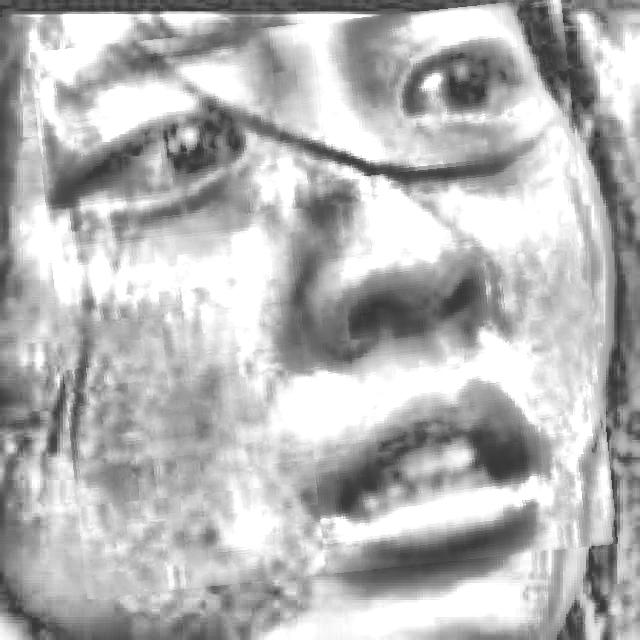fear: (43, 10, 605, 586)
